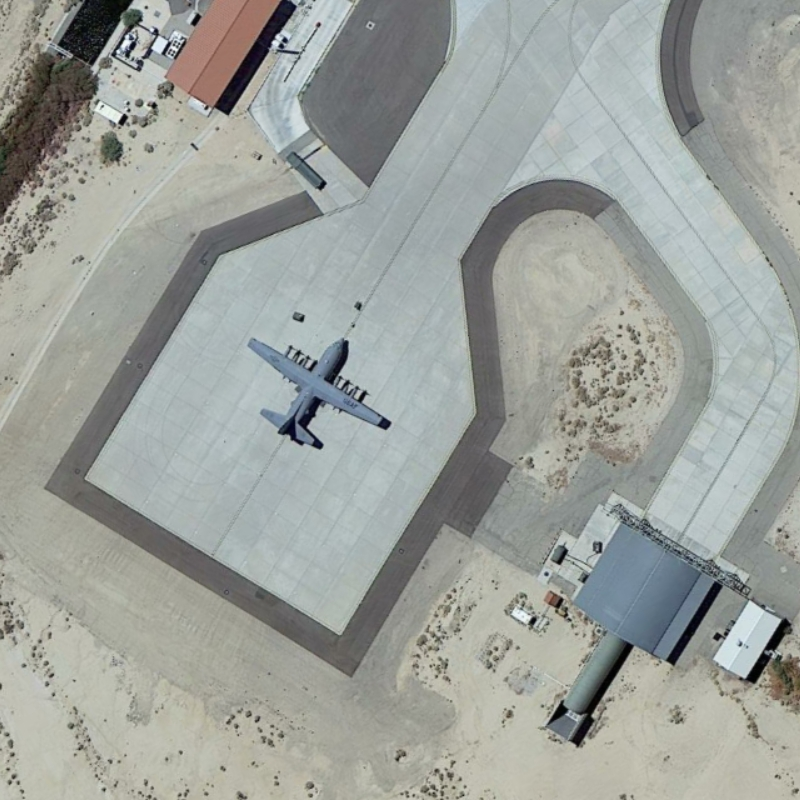A2: (243, 316, 393, 459)
